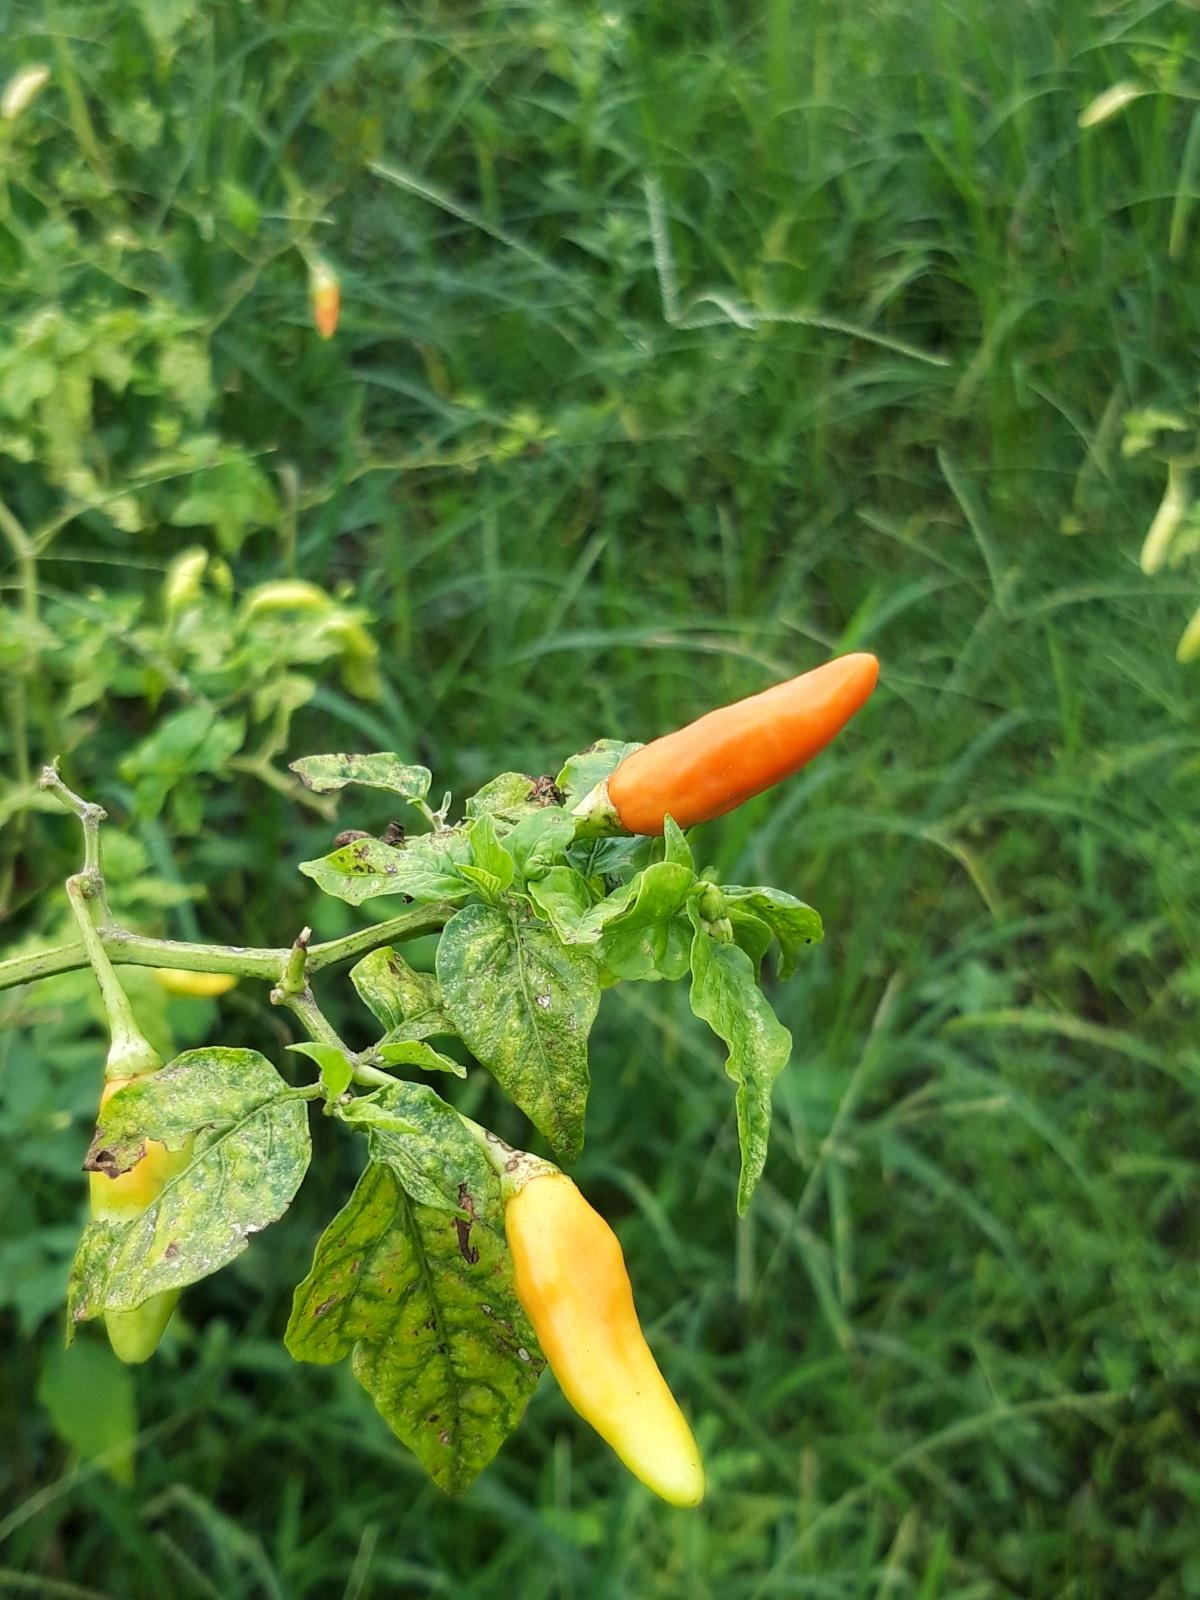cabai_normal: (499, 1162, 717, 1512), (610, 651, 881, 838), (311, 271, 342, 339)
